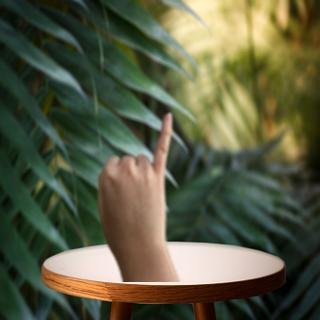FINE: (94, 109, 176, 248)
